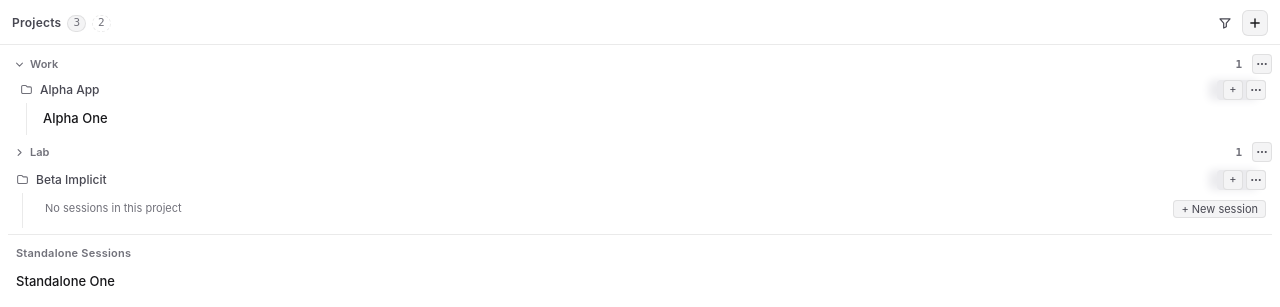
Test: SessionSidebar › renders nested project->session tree expanded by default, shows empty project hint, and collapses/expands projects on click
This screenshot has width=1280, height=307.
Expected: the button "Alpha One" is shown, x1=43 y1=110 x2=1256 y2=128
Expected: the text "No sessions in this project" is shown, x1=45 y1=201 x2=182 y2=215
Click the element with test id "project-item-proj-alpha".
click(642, 90)  # box x1=12 y1=77 x2=1272 y2=102
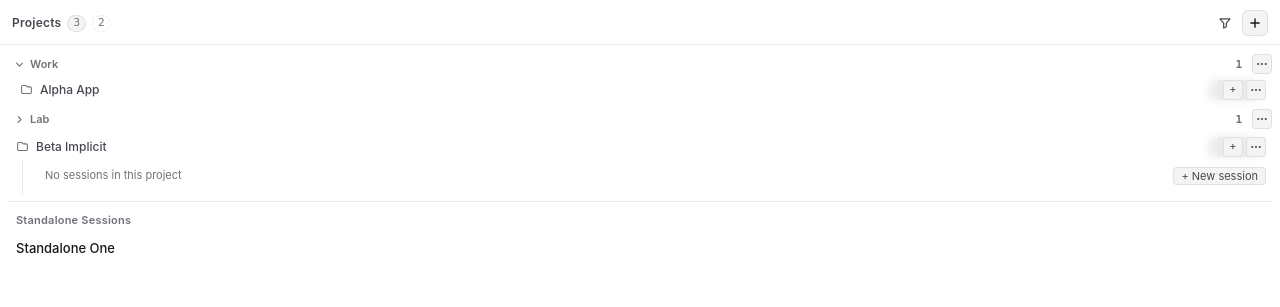
Now the element with test id "project-sessions-proj-alpha" is gone
Click the element with test id "project-item-proj-alpha".
click(642, 90)  # box x1=12 y1=77 x2=1272 y2=102
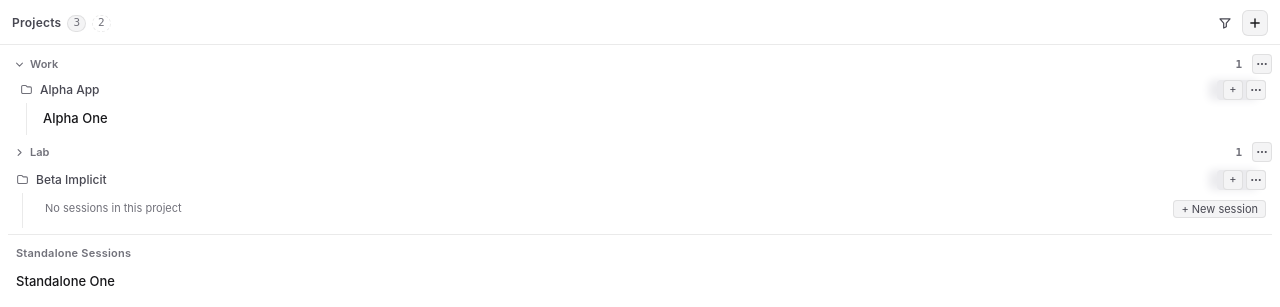
Now the element with test id "project-sessions-proj-alpha" is shown, box x1=26 y1=103 x2=1272 y2=135
